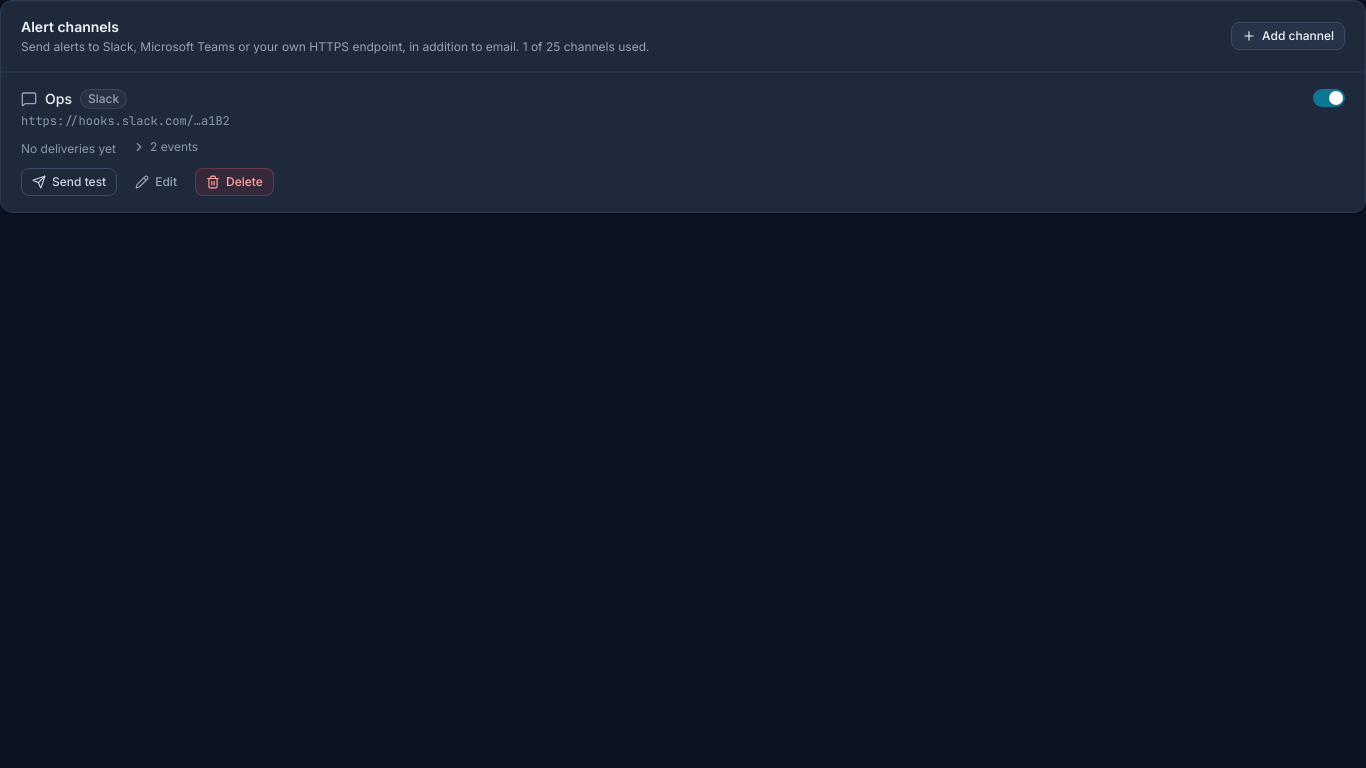
Test case: AlertChannels › deletes a channel after confirmation
This screenshot has width=1366, height=768.
Click the button with aria-label "Delete Ops".
click(234, 182)  # box [195, 168, 274, 196]
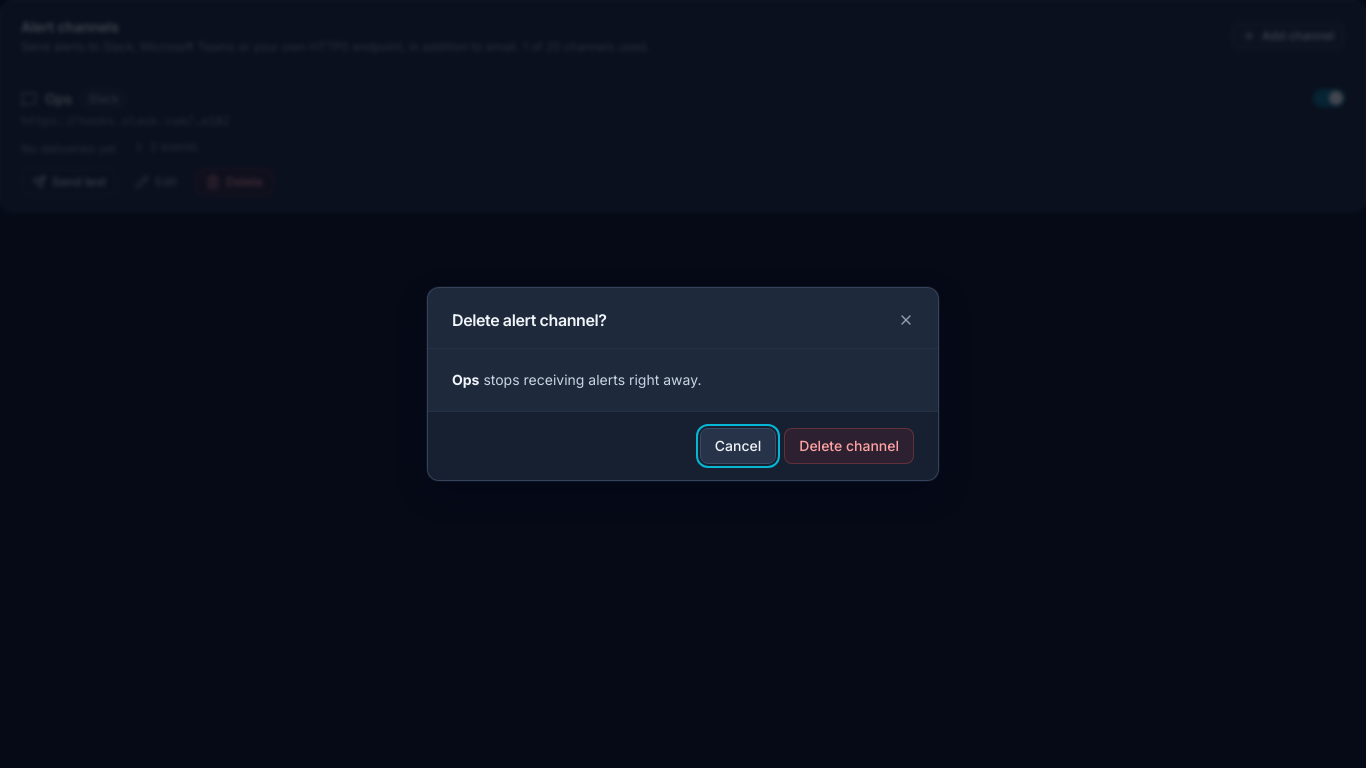
Click the button "Delete channel".
click(849, 446)  # box [784, 428, 914, 464]
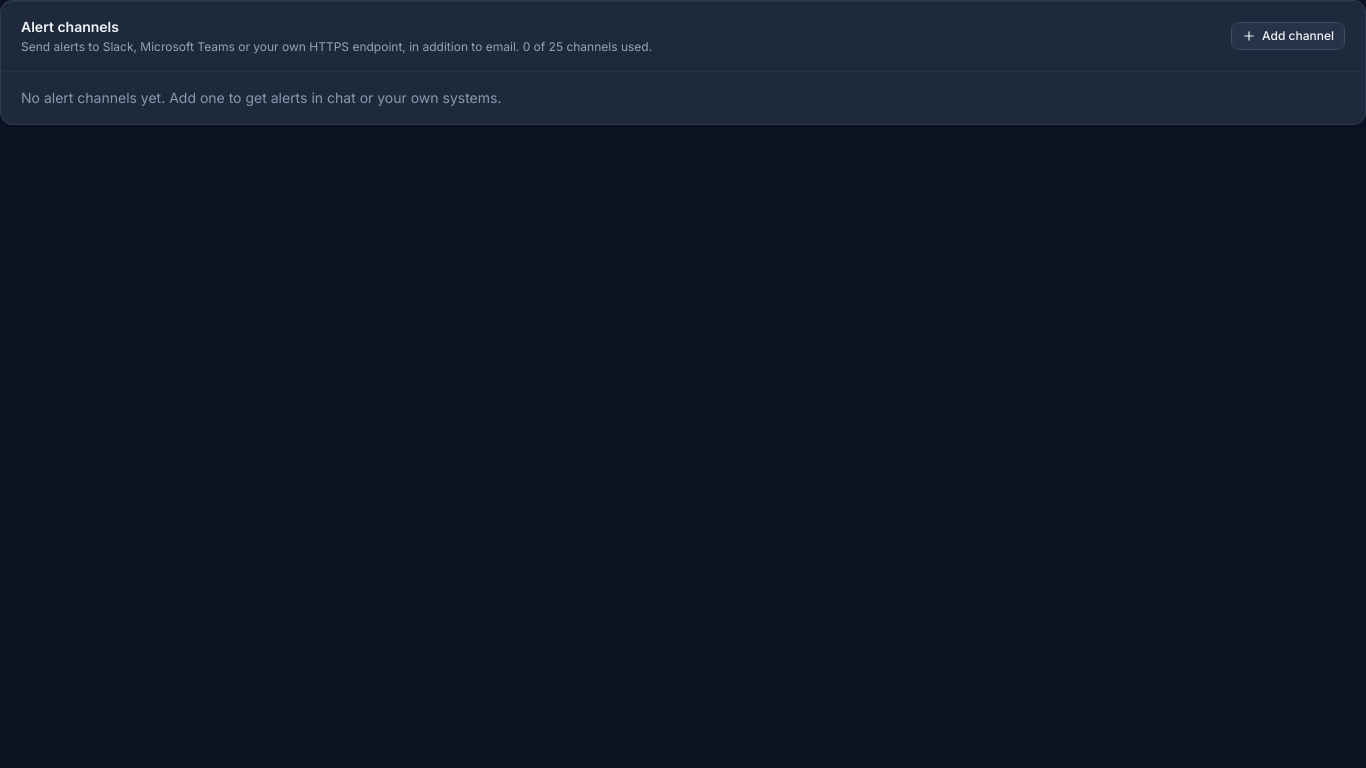
Expected: the list item with test id "alert-channel-ch-1" is gone
